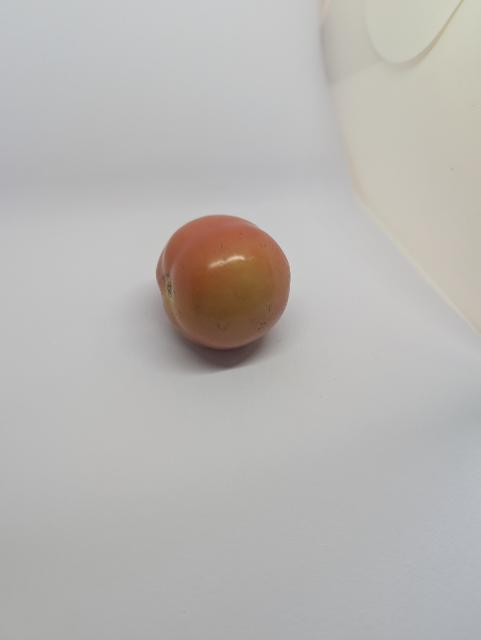turning: (146, 212, 304, 359)
